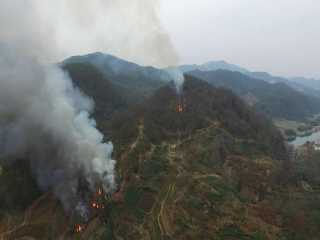smoke: (1, 1, 187, 221)
